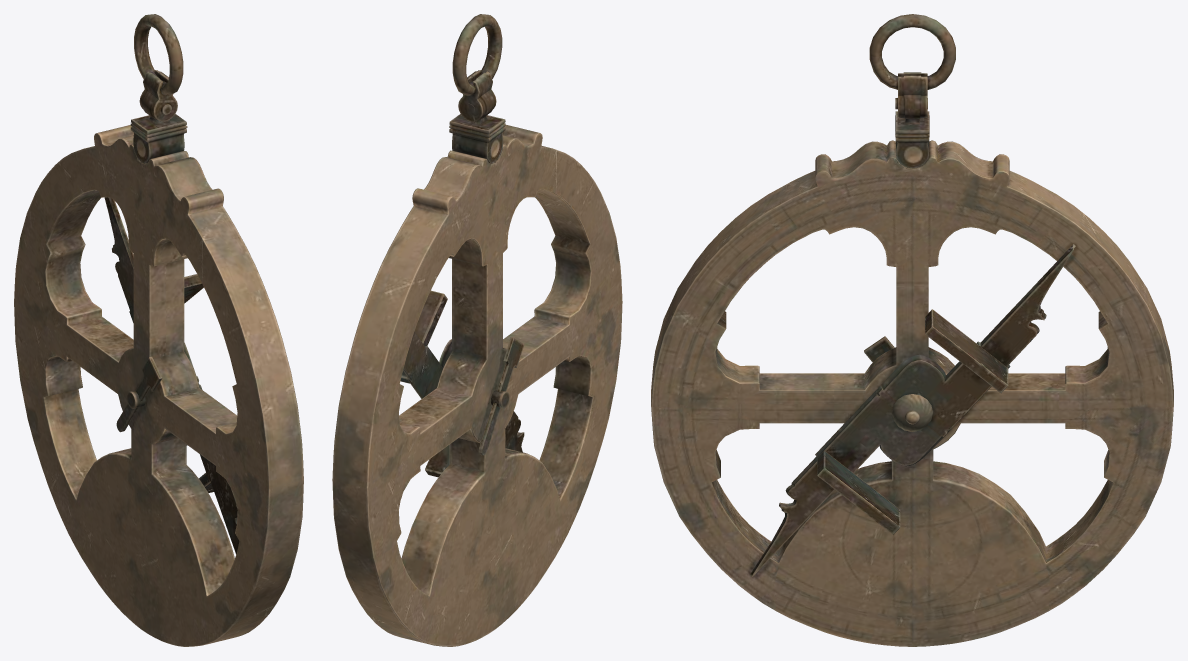
File: Astrolabio.glb
3 views of the same model, side by side, from view 1: azimuth 30°, elevation 25°; view 2: azimuth 150°, elevation 25°; view 3: azimuth 270°, elevation 25° (orthographic). The views are drawn at different scales.
Parts seen in each view (by area): view 1: SM_Astrolabio; view 2: SM_Astrolabio; view 3: SM_Astrolabio.
Boxes of the visible parts, x1,y1,x2,y2 form: SM_Astrolabio: (14, 14, 303, 646); SM_Astrolabio: (332, 14, 622, 646); SM_Astrolabio: (651, 14, 1173, 646).
Bounding box in the file's own units: 0.6126 × 4.11 × 3.12.
Materials: 1 (1 with a texture image).
